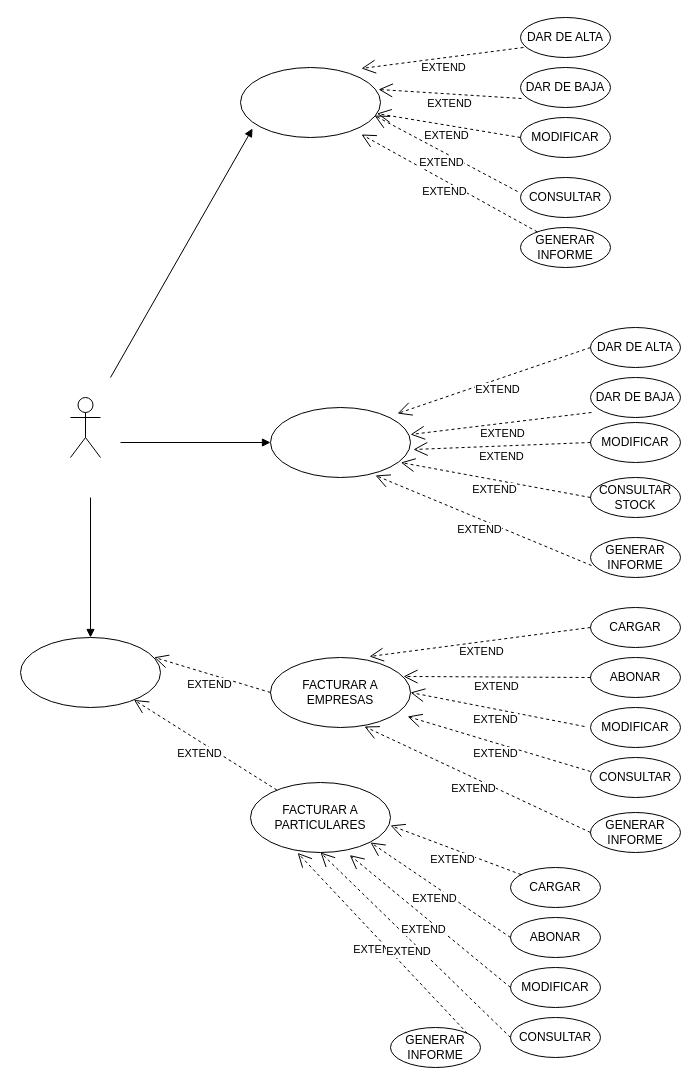
This 698x1085 diagram has some shape labels left out. The centre of each missing label's shape, as x and y in pixels:
GESTIONAR ARTICULOS: (340,442)
GESTIONAR CLIENTES: (310,102)
GESTIONAR FACTURAS: (90,672)
GESTOR INFÓRMATICO: (85,427)
